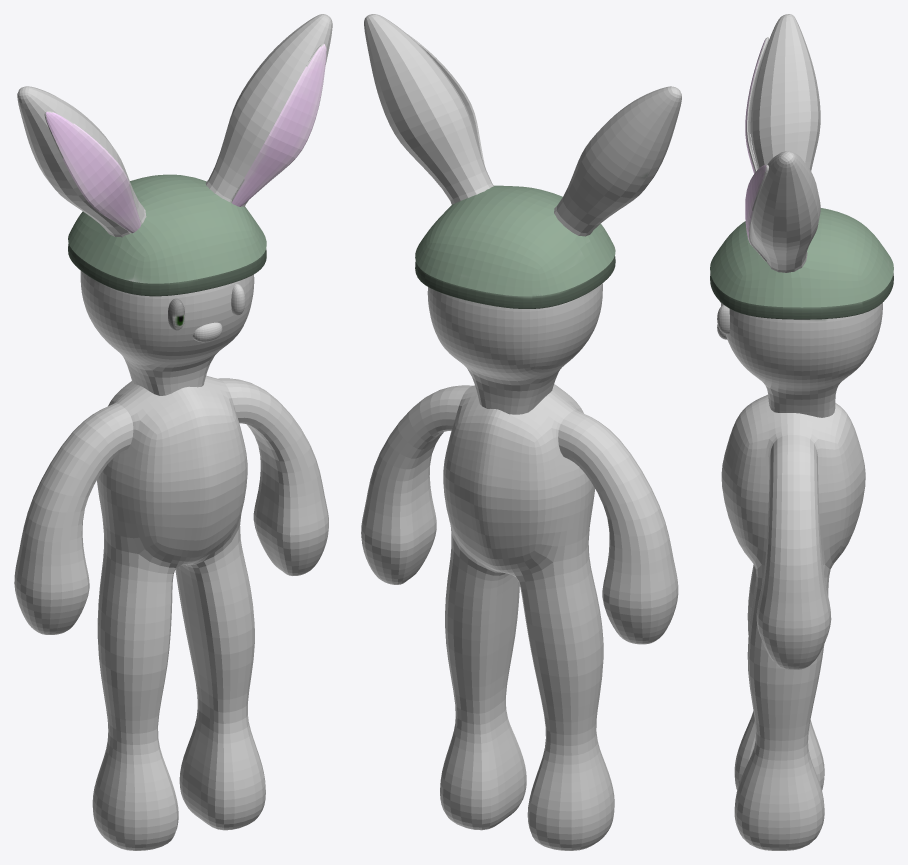
The model's file is ZAKIS 1.fbx.
3 views of the same model, side by side, from view 1: azimuth 30°, elevation 25°; view 2: azimuth 150°, elevation 25°; view 3: azimuth 270°, elevation 25° (orthographic). The views are drawn at different scales.
Parts seen in each view (by area): view 1: Cube.003; view 2: Cube.003; view 3: Cube.003.
Part boxes in pixels (x1,y1,x2,y2): Cube.003: (14, 14, 332, 850); Cube.003: (361, 14, 681, 850); Cube.003: (710, 14, 893, 850).
Size of the model in its own units: 366 by 867 by 196.
1 material, 1 textured.
